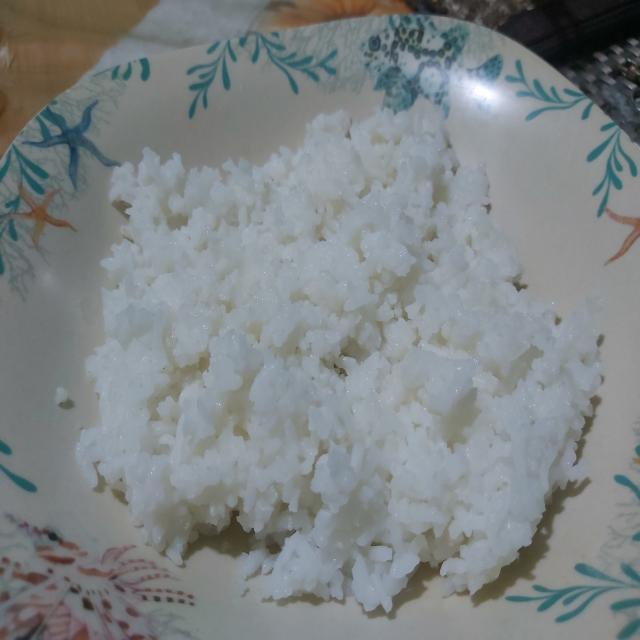Chicken -Chicken Inasal-: (99, 120, 577, 582)
